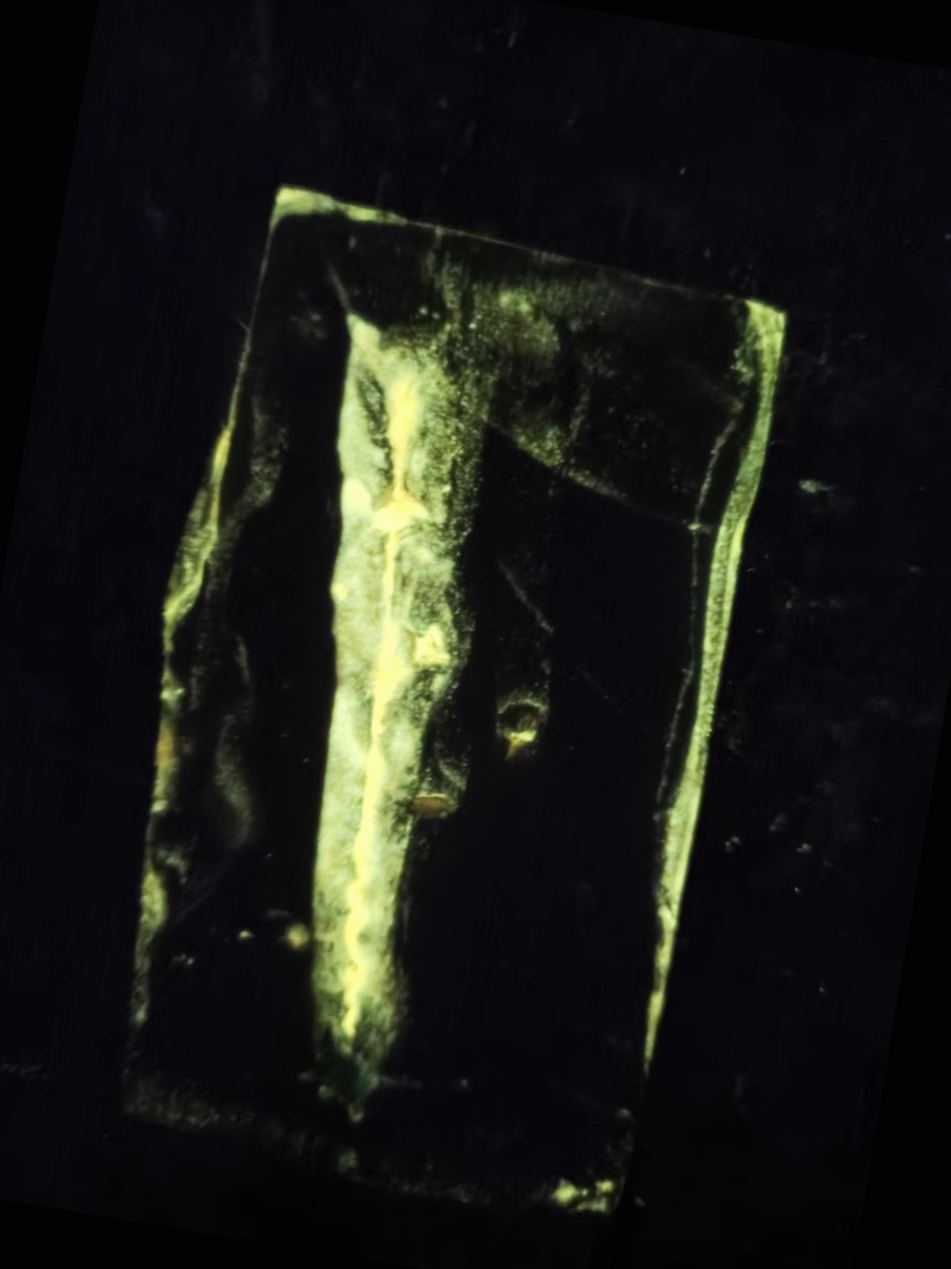Fissure: (197, 271, 536, 1101), (585, 264, 825, 1110)
